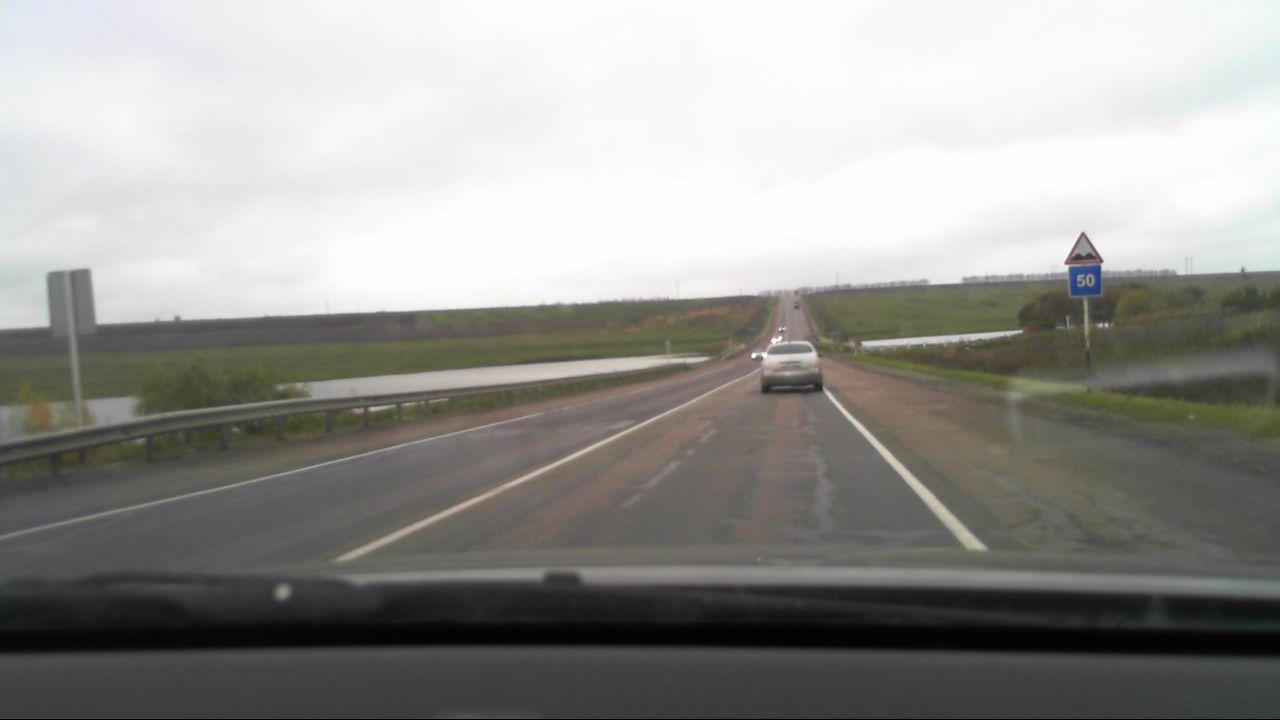1_16: (1064, 229, 1103, 263)
6_2: (1069, 266, 1105, 296)
